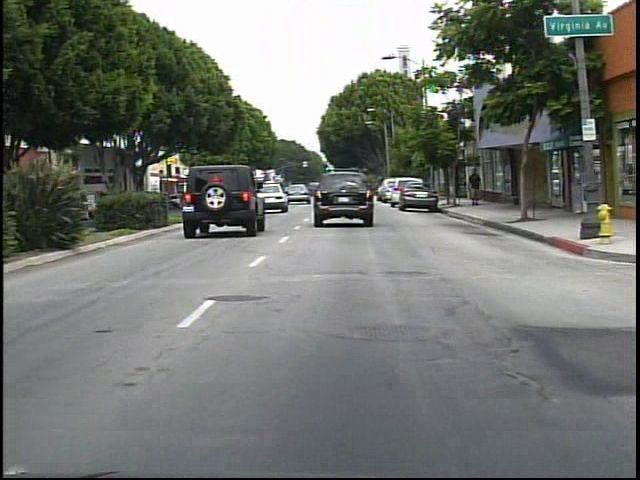person: (465, 167, 486, 209)
